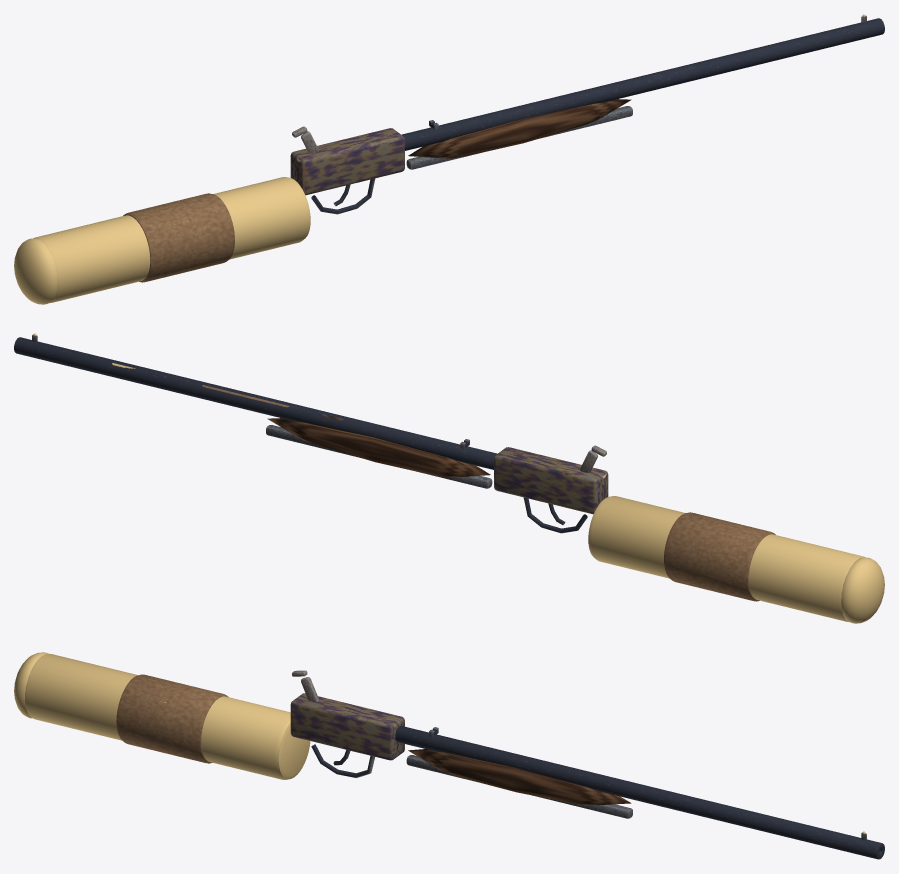
The model's file is airrifle.glb.
3 views of the same model, one above another, from view 1: azimuth 30°, elevation 25°; view 2: azimuth 150°, elevation 25°; view 3: azimuth 330°, elevation 25° (orthographic).
Parts seen in each view (by area): view 1: reservoir, barrel, cheek, action, fore_end, reservoir_end, pump_lever; view 2: reservoir, barrel, cheek, action, fore_end, reservoir_end, pump_lever; view 3: reservoir, barrel, cheek, action, fore_end, pump_lever, reservoir_end, trigger_guard.
Part boxes in pixels (<box>): reservoir: <box>33,177,310,303</box>; barrel: <box>402,18,884,150</box>; cheek: <box>123,193,234,282</box>; action: <box>290,128,404,195</box>; fore_end: <box>408,99,631,158</box>; reservoir_end: <box>14,238,57,304</box>; pump_lever: <box>406,106,632,169</box>; reservoir: <box>588,496,865,622</box>; barrel: <box>14,337,496,469</box>; cheek: <box>664,512,775,601</box>; action: <box>494,447,608,514</box>; fore_end: <box>267,418,490,477</box>; reservoir_end: <box>841,557,884,623</box>; pump_lever: <box>266,425,492,488</box>; reservoir: <box>25,653,310,779</box>; barrel: <box>395,726,884,859</box>; cheek: <box>116,674,228,763</box>; action: <box>290,693,404,760</box>; fore_end: <box>408,749,631,805</box>; pump_lever: <box>406,755,632,818</box>; reservoir_end: <box>14,652,48,718</box>; trigger_guard: <box>311,744,374,777</box>.
Bounding box in the file's own units: 1 × 0.124 × 0.072.
Materials: 1 (1 with a texture image).
